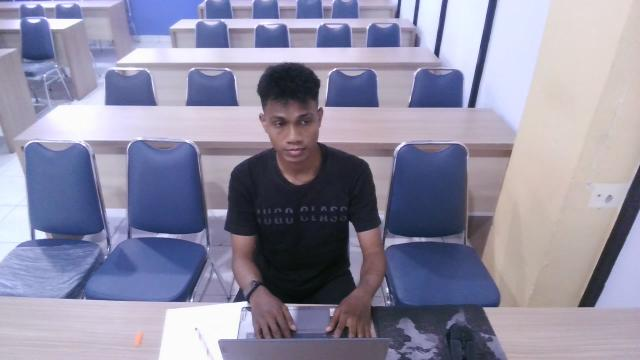Looking_Around: (220, 53, 392, 284)
